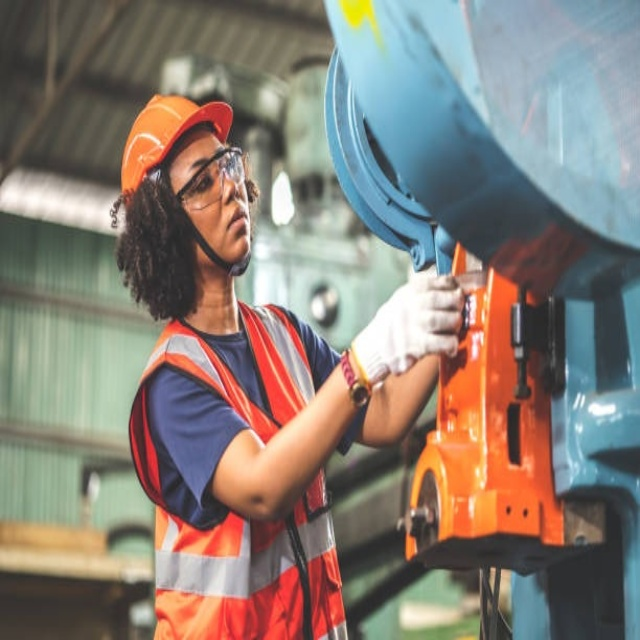Gafas: (174, 145, 246, 212)
Guantes: (350, 269, 461, 386)
Sin_mascara: (216, 204, 250, 254)
